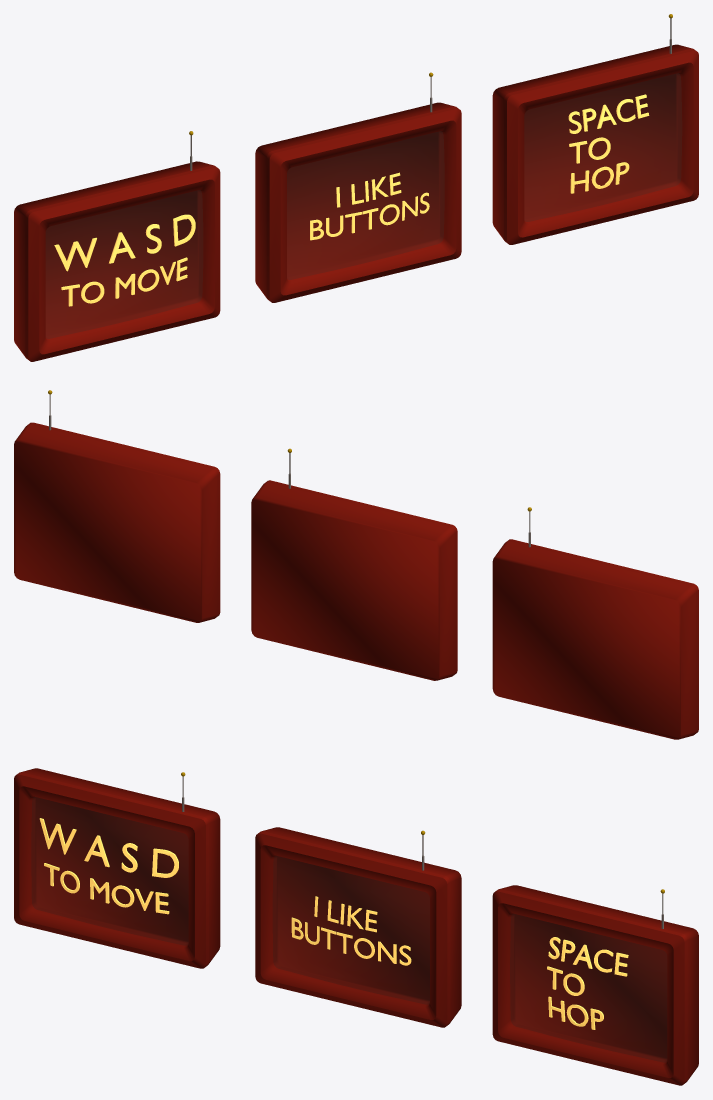
3 views of the same model, one above another, from view 1: azimuth 30°, elevation 25°; view 2: azimuth 150°, elevation 25°; view 3: azimuth 330°, elevation 25° (orthographic).
Parts seen in each view (by area): view 1: Plane.005; view 2: Plane.005; view 3: Plane.005.
Part boxes in pixels (<box>): Plane.005: <box>14,14,698,361</box>; Plane.005: <box>14,390,698,739</box>; Plane.005: <box>14,768,698,1085</box>.
Size of the model in its own units: 8.11 by 2.18 by 0.4706.
